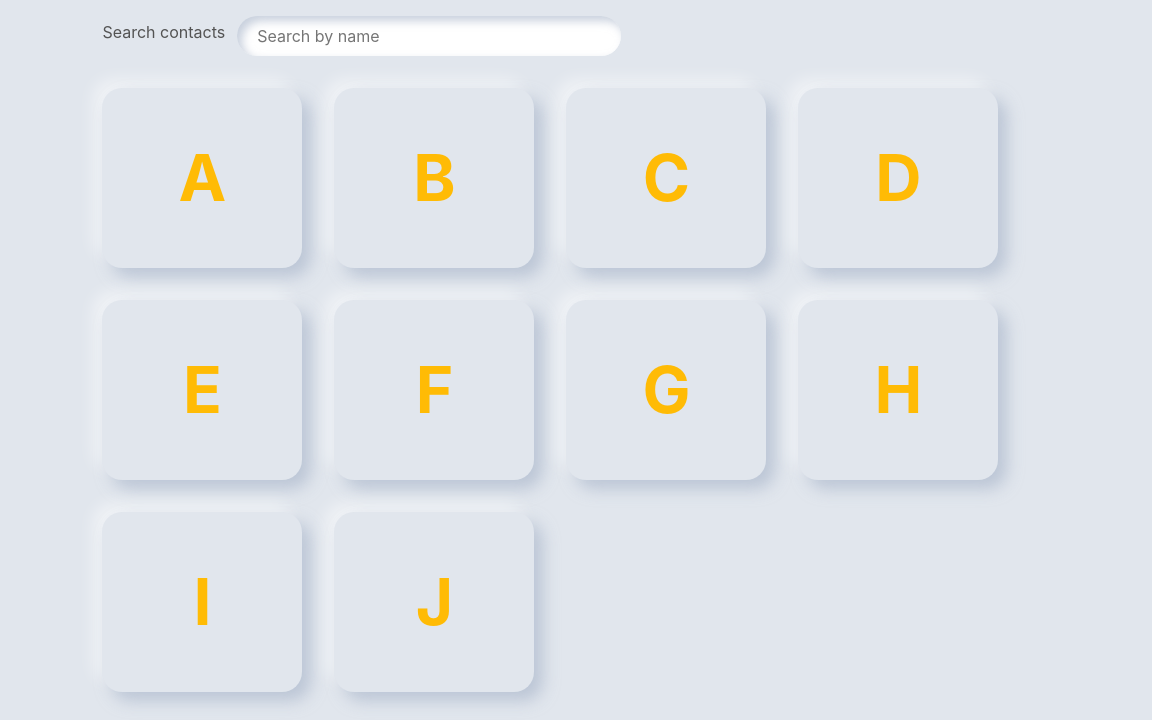
it: detail modal interaction › Escape closes the detail modal and returns focus to the opening card
Click the button "B".
click(434, 178)  # box top-left (334, 88), bottom-right (534, 268)
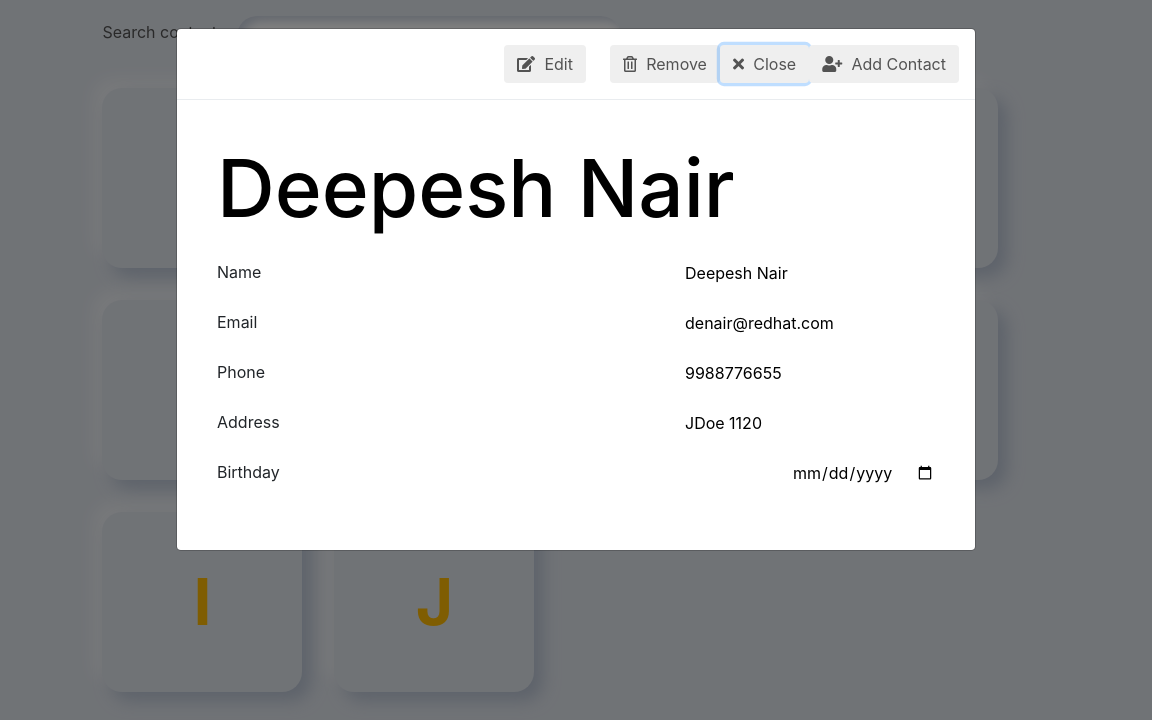
Press Escape in the dialog, box top-left (176, 28), bottom-right (976, 551)
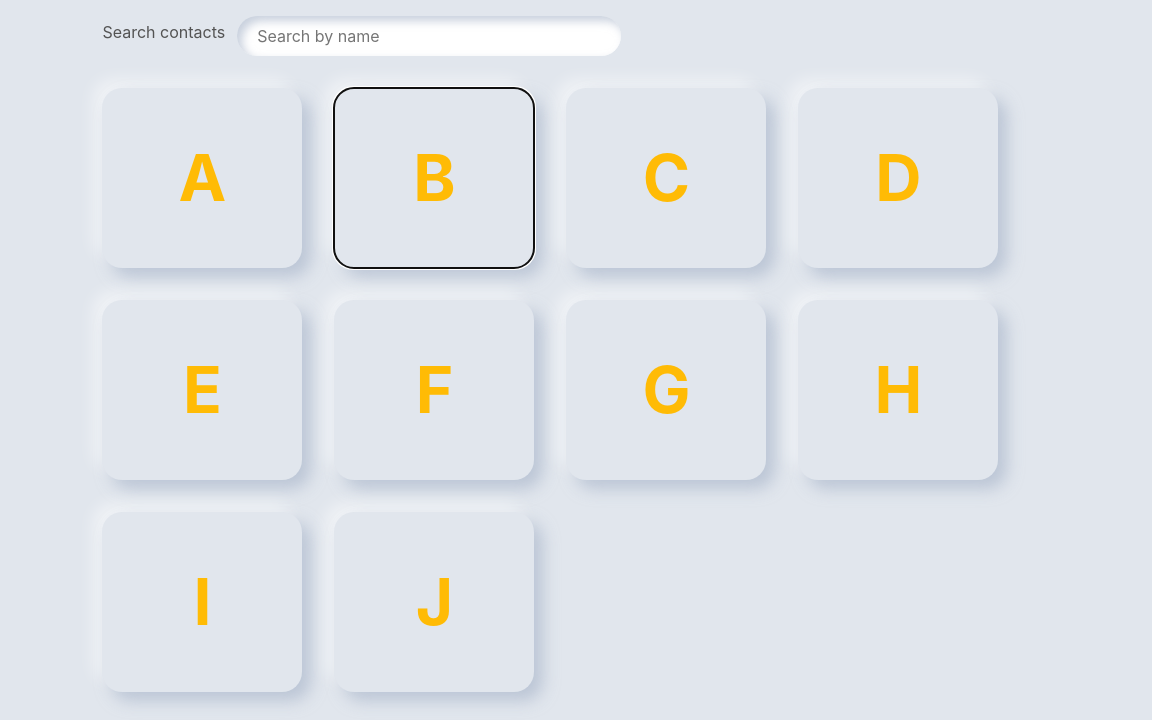
expect the dialog is gone: met
